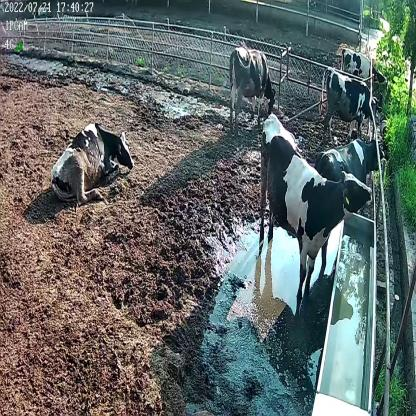cow: (258, 109, 372, 299), (48, 122, 134, 204), (227, 45, 276, 134), (314, 138, 386, 195), (322, 75, 381, 139), (338, 48, 388, 90)
